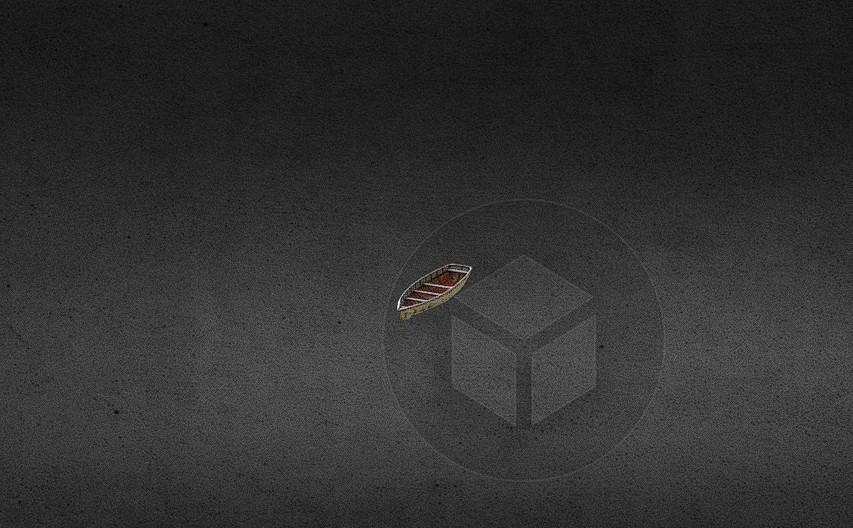Boat: (396, 262, 472, 320)
